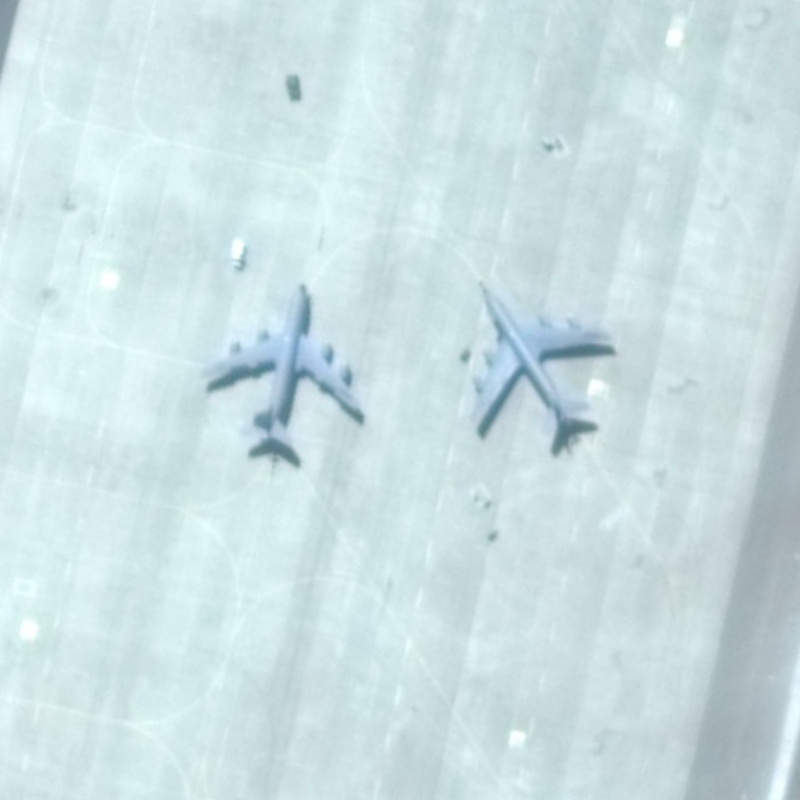A14: (194, 272, 378, 462), (460, 266, 621, 462)
